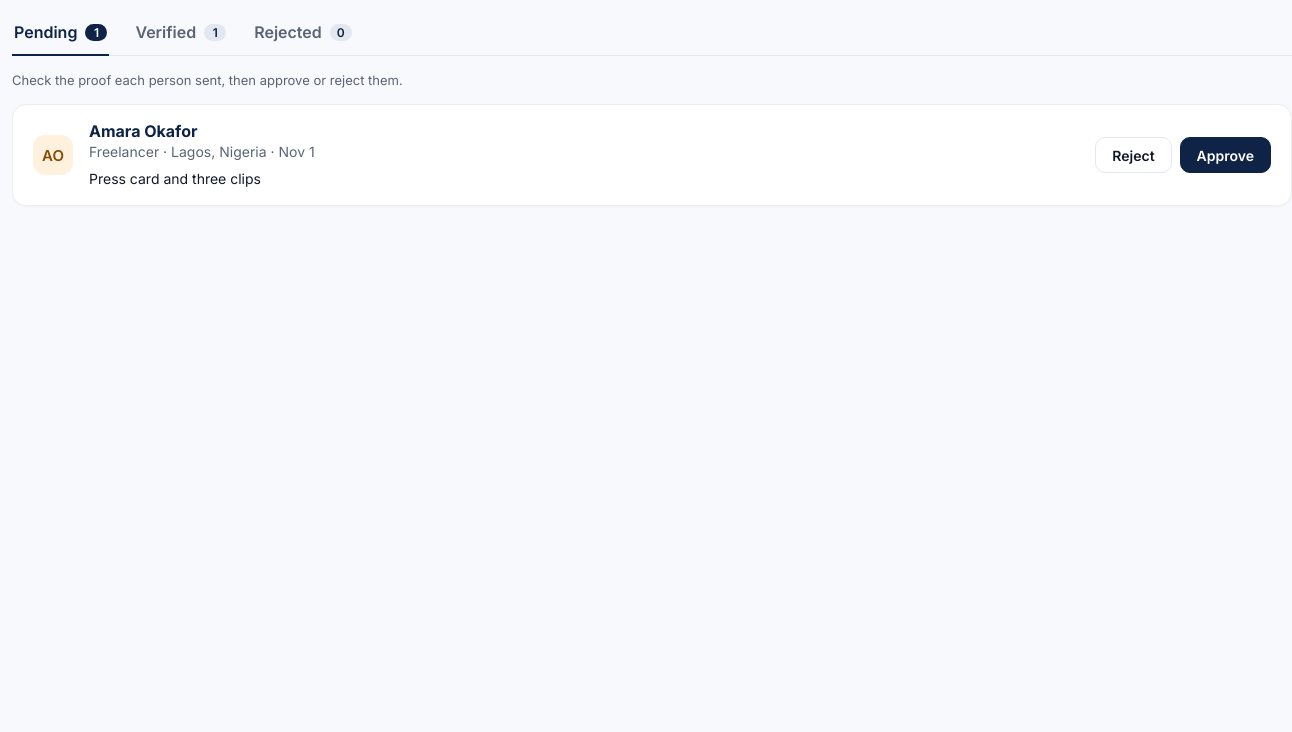
Scenario: VerificationList › approves a pending request and confirms it
Click the button "Approve" at (1225, 155), box x1=1180 y1=137 x2=1271 y2=173
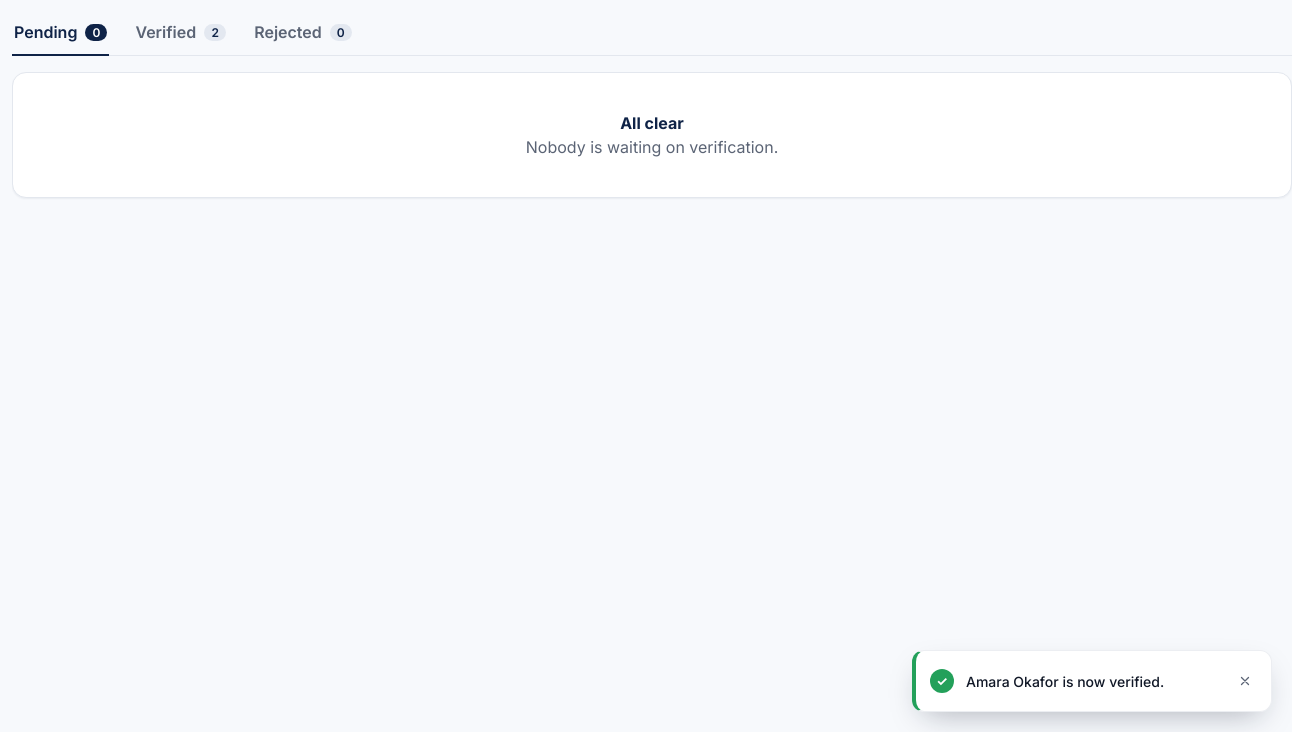
Expected: the text "Amara Okafor is now verified." is shown, x1=966 y1=672 x2=1164 y2=690
Expected: the text "All clear" is shown, x1=620 y1=113 x2=684 y2=133
